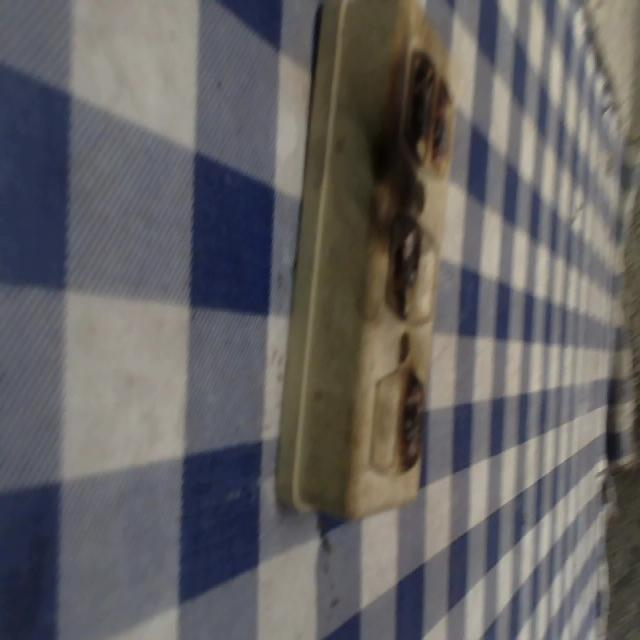-: (401, 41, 454, 179), (381, 208, 422, 315), (399, 364, 427, 473)
